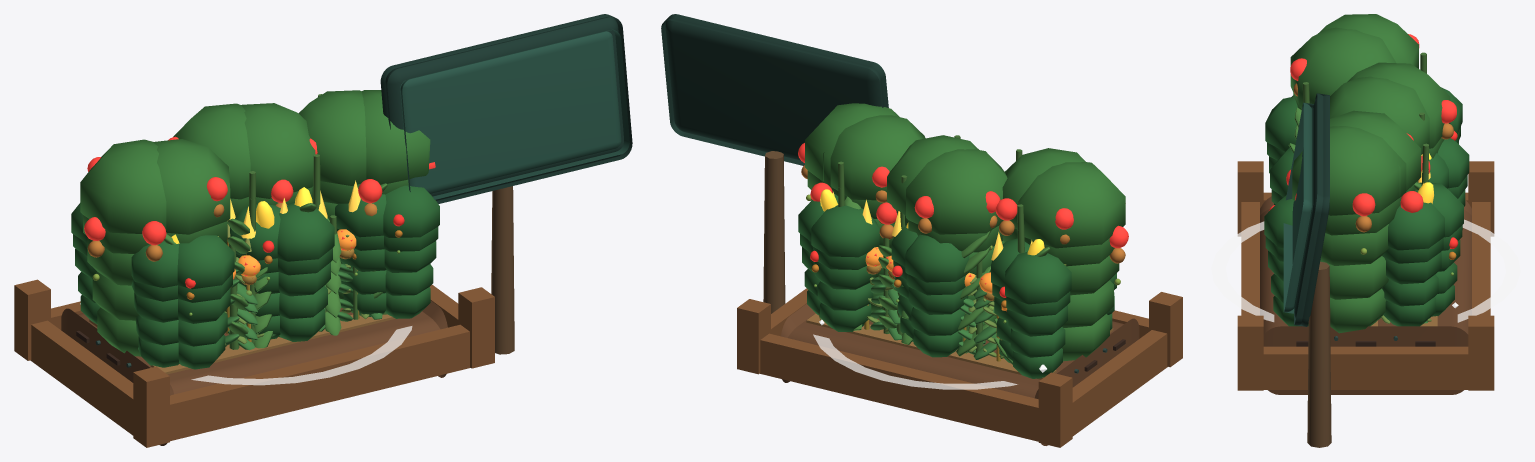
Rendered from crops.glb.
The picture shows the model from 3 angles, left to right: view 1: azimuth 30°, elevation 25°; view 2: azimuth 150°, elevation 25°; view 3: azimuth 270°, elevation 25°; orthographic projection. The views are drawn at different scales.
Visible parts, largest first — view 1: n359, n15, n8, n722, n14, n7, n661, n680, n642, n701, n5, n338 (+15 smaller); view 2: n359, n15, n7, n722, n14, n661, n680, n642, n5, n338, n361, n701 (+13 smaller); view 3: n359, n15, n722, n14, n7, n8, n5, n121, n242, n317, n298, n661 (+9 smaller).
Part boxes in pixels (x1,y1,x2,y2): n359: (80, 90, 430, 234); n15: (14, 279, 494, 447); n8: (400, 29, 629, 199); n722: (71, 185, 439, 289); n14: (61, 300, 447, 445); n7: (380, 14, 632, 203); n661: (78, 264, 433, 346); n680: (75, 241, 436, 323); n642: (80, 287, 430, 369); n701: (73, 227, 438, 302); n5: (491, 186, 514, 354); n338: (83, 179, 408, 253); n359: (805, 103, 1125, 248); n15: (737, 288, 1182, 447); n7: (661, 14, 888, 165); n722: (798, 194, 1071, 304); n14: (781, 304, 1139, 445); n661: (804, 269, 1114, 357); n680: (802, 247, 1116, 336); n642: (807, 290, 1112, 378); n5: (763, 151, 785, 313); n338: (807, 170, 1114, 266); n361: (798, 143, 1128, 248); n701: (800, 234, 1070, 316); n359: (1290, 14, 1450, 215); n15: (1237, 161, 1494, 390); n722: (1264, 87, 1469, 250); n14: (1260, 196, 1471, 394); n7: (1294, 93, 1329, 326); n8: (1283, 102, 1313, 313); n5: (1307, 261, 1331, 447); n121: (1211, 220, 1520, 322); n242: (1212, 220, 1519, 321); n317: (1320, 224, 1388, 265); n298: (1320, 256, 1388, 299); n661: (1271, 225, 1462, 306).
Size of the model in its own units: 3.11 by 1.77 by 1.66.
